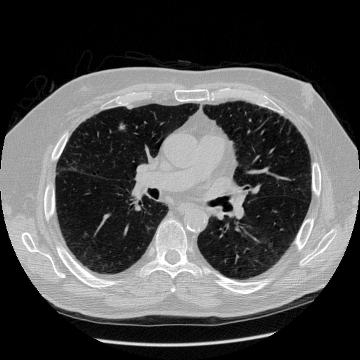nodule: (118, 123, 126, 131)
